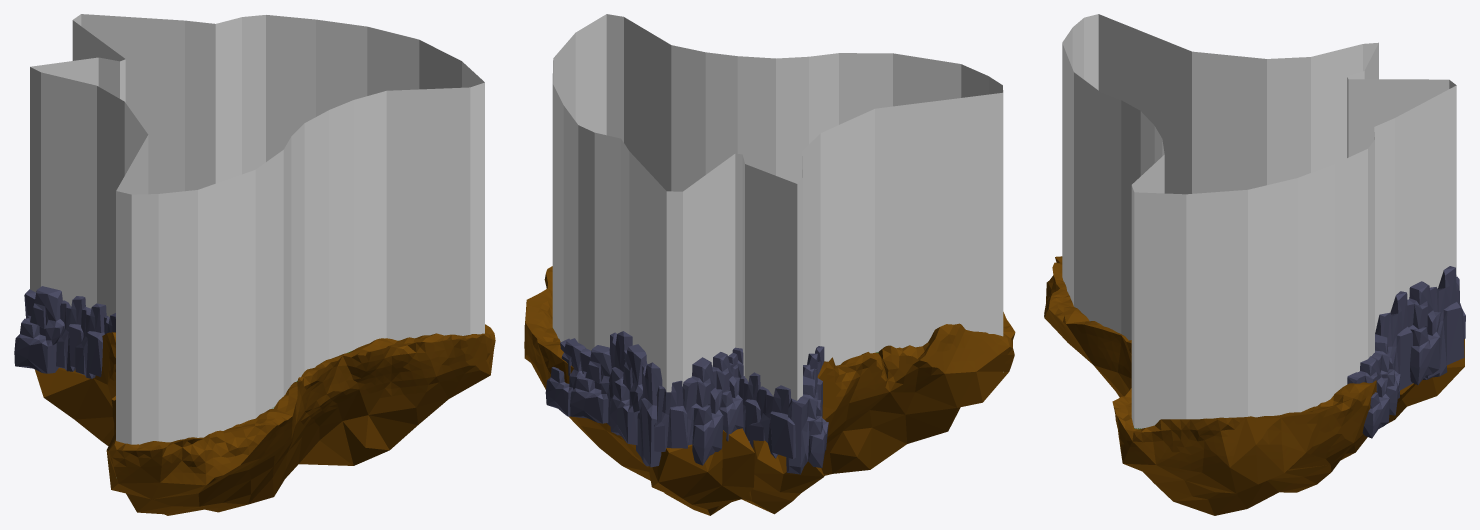
Rendered from WIsland_210313.fbx.
3 views of the same model, side by side, from view 1: azimuth 30°, elevation 25°; view 2: azimuth 150°, elevation 25°; view 3: azimuth 270°, elevation 25° (orthographic). The views are drawn at different scales.
Parts seen in each view (by area): view 1: Basic shape, Basic clone.001, Cube.002, Cube.006, Cube.008; view 2: Basic shape, Basic clone.001, Cube.005, Cube.002, Cube.025, Cube.021, Cube.020, Cube.023, Cube.022, Cube.004, Cube.026, Cube.019 (+1 smaller); view 3: Basic shape, Basic clone.001, Cube.021, Cube.022, Cube.024, Cube.026, Cube.025.
Part boxes in pixels (x1,y1,x2,y2): Basic shape: [30, 14, 484, 477]; Basic clone.001: [35, 324, 495, 515]; Cube.002: [14, 286, 64, 373]; Cube.006: [75, 303, 106, 378]; Cube.008: [56, 296, 85, 371]; Basic shape: [552, 14, 1003, 400]; Basic clone.001: [524, 266, 1015, 515]; Cube.005: [682, 357, 723, 465]; Cube.002: [786, 376, 828, 474]; Cube.025: [570, 345, 611, 423]; Cube.021: [609, 344, 646, 445]; Cube.020: [749, 385, 795, 458]; Cube.023: [654, 380, 687, 451]; Cube.022: [636, 362, 662, 467]; Cube.004: [712, 352, 743, 441]; Cube.026: [545, 338, 585, 416]; Cube.019: [738, 372, 760, 442]; Basic shape: [1062, 14, 1456, 428]; Basic clone.001: [1044, 256, 1464, 515]; Cube.021: [1407, 281, 1440, 384]; Cube.022: [1423, 266, 1464, 379]; Cube.024: [1375, 291, 1412, 398]; Cube.026: [1347, 356, 1389, 438]; Cube.025: [1372, 334, 1400, 415].
Size of the model in its own units: 7984 by 7374 by 7513.
